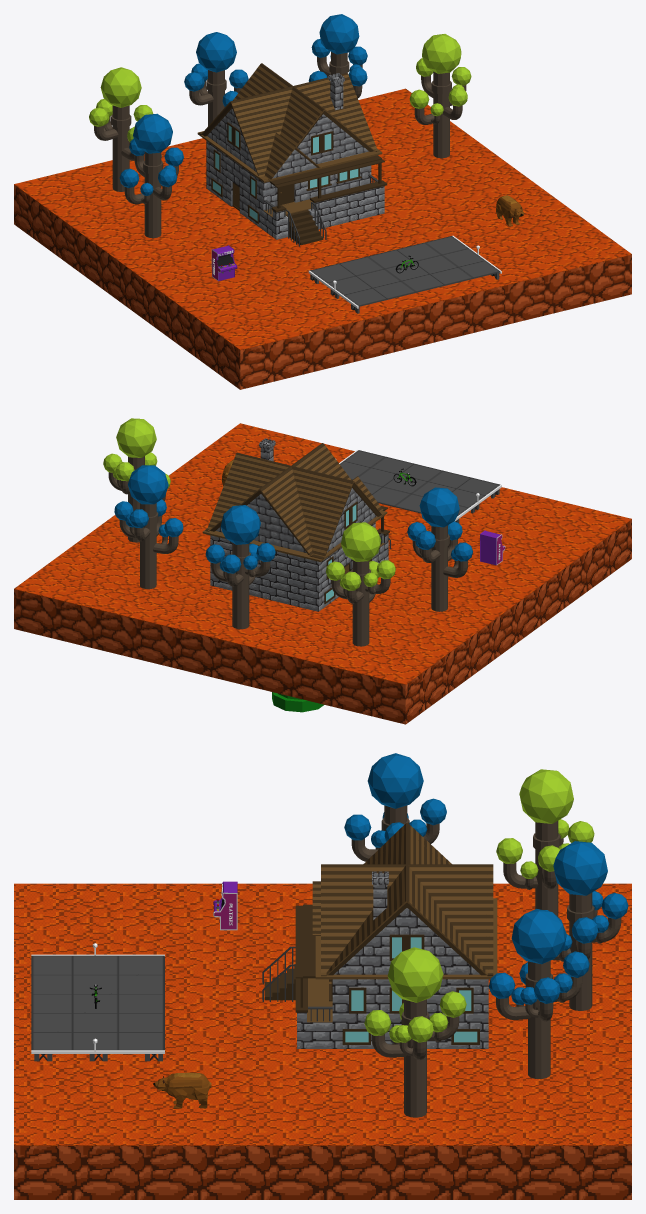
3 renders of one model, top to bottom at view 1: azimuth 30°, elevation 25°; view 2: azimuth 150°, elevation 25°; view 3: azimuth 270°, elevation 25°, orthographic. The views are drawn at different scales.
Visible parts, largest first — view 1: Cube.001, Cube.586, OBJRANDOM_ARCADE, ANIMAL_OSO; view 2: Cube.001, Cube.586, OBJRANDOM_ARCADE, UNDERGROUND_PIPES; view 3: Cube.001, Cube.586, ANIMAL_OSO, OBJRANDOM_ARCADE.
Boxes of the visible parts, x1,y1,x2,y2 form: Cube.001: (14,14,631,389); Cube.586: (197,63,387,246); OBJRANDOM_ARCADE: (211,245,237,281); ANIMAL_OSO: (496,195,524,226); Cube.001: (14,418,631,724); Cube.586: (202,438,390,611); OBJRANDOM_ARCADE: (480,530,505,565); UNDERGROUND_PIPES: (272,692,324,712); Cube.001: (14,753,631,1199); Cube.586: (262,823,497,1048); ANIMAL_OSO: (153,1072,211,1108); OBJRANDOM_ARCADE: (213,881,237,930).
Size of the model in its own units: 4000 by 2247 by 4000.
34 materials, 5 textured.
